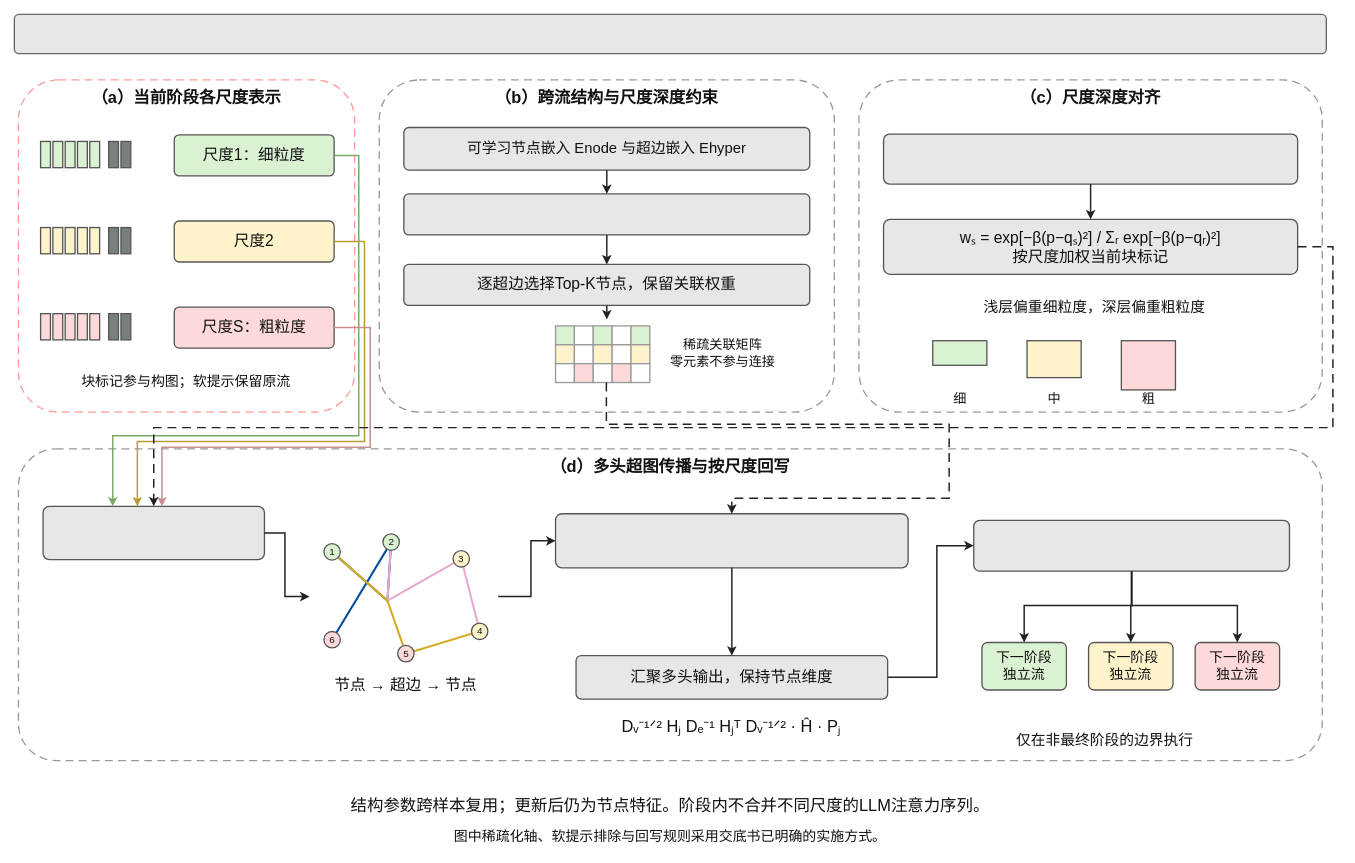
This 1355x863 diagram has some shape labels left out. The shapes that lost their labels are listed below. From the top down, each one's centre as x and y in pixels, then its label:
[670,33]: 图3 阶段间受约束跨流交互示意图
[1090,158]: 阶段末层位置 p = (ℓλ−1)/(L−1) 尺度位置 qₛ = (s−1)/(S−1)
[606,214]: H = Softmax(Softplus(Enode · Ehyperᵀ))
[153,532]: 各尺度块标记加权 临时拼接为节点特征
[731,540]: 归一化超图传播（第j头） 节点度 / 超边度归一化与投影
[1131,545]: 按尺度节点数拆分 更新块标记并保留软提示
